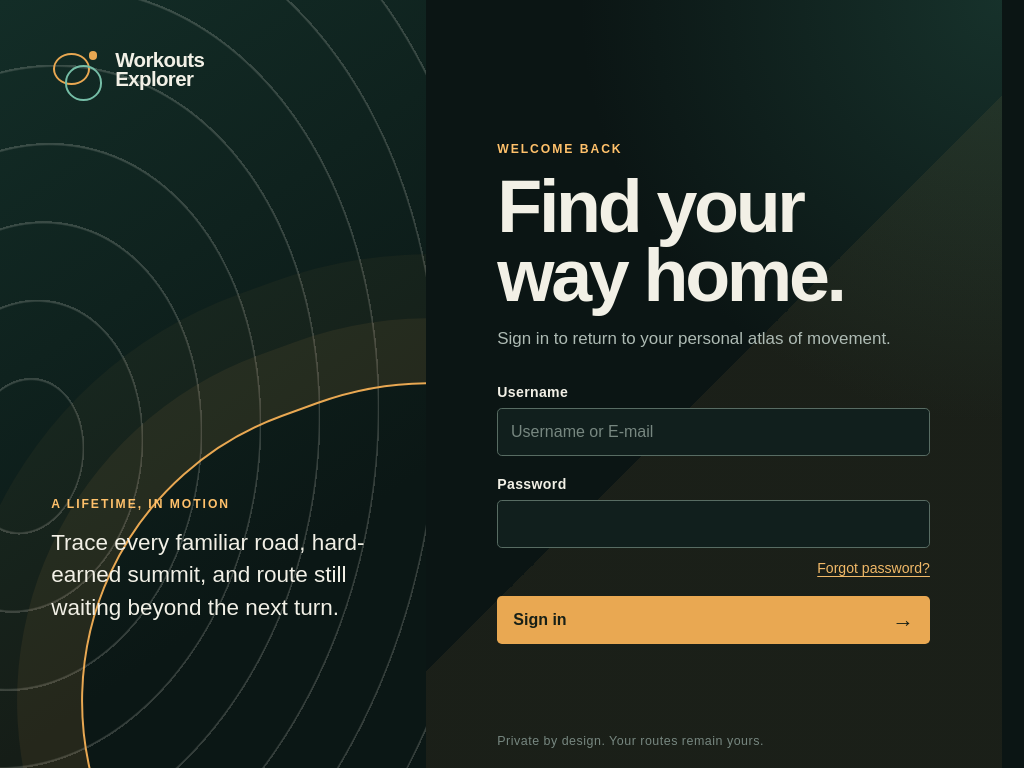
Test: public authentication › returns to the selected Map workout after reauthentication
Type "trailrunner" into the field labelled "Username".
click(714, 432); type("trailrunner")  # box [497, 408, 930, 456]
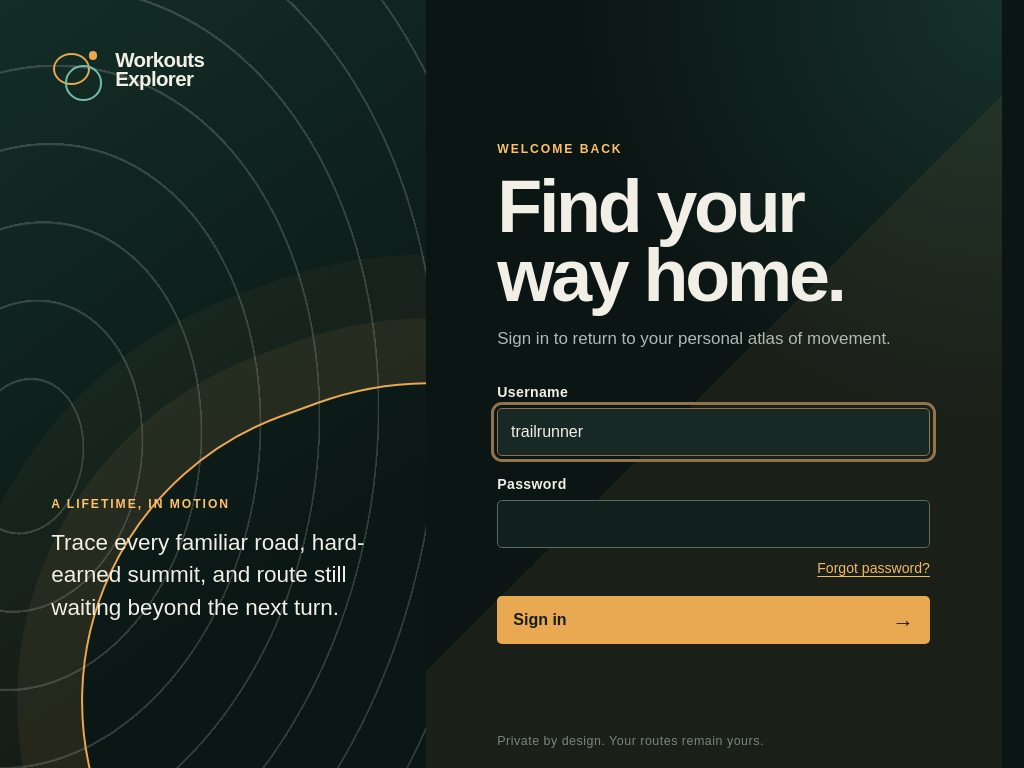
Type "correct horse battery" into the password field labelled "Password".
click(714, 524); type("correct horse battery")  # box [497, 500, 930, 548]
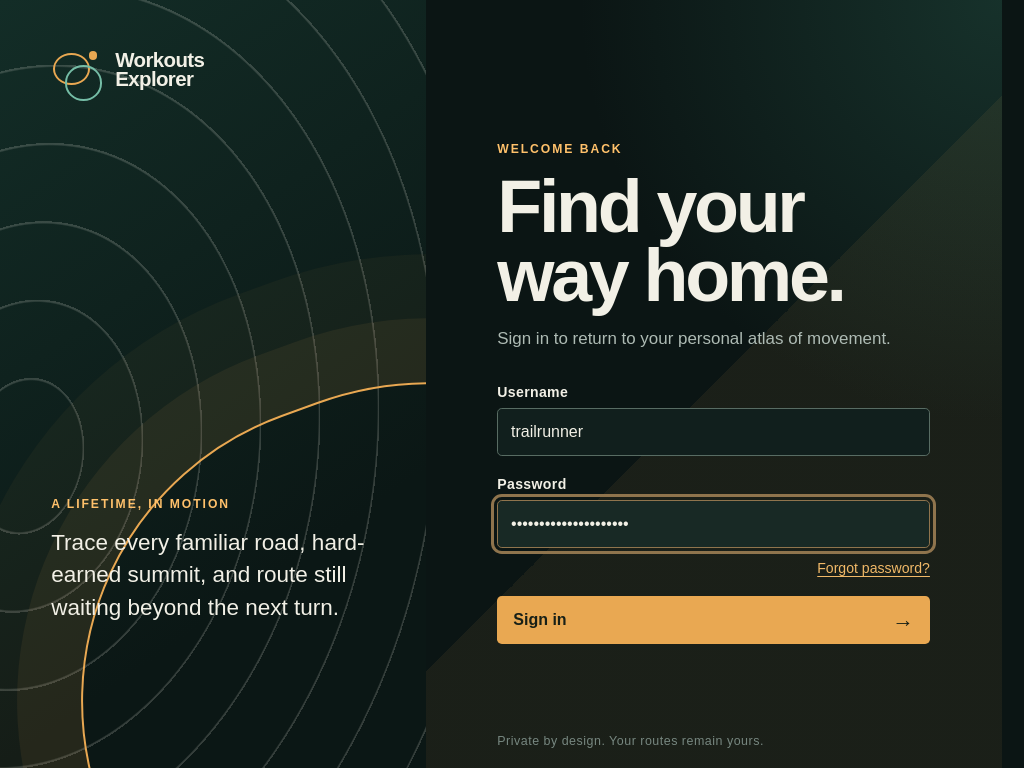
Click the button "Sign in".
click(540, 620)  # box [497, 596, 930, 644]
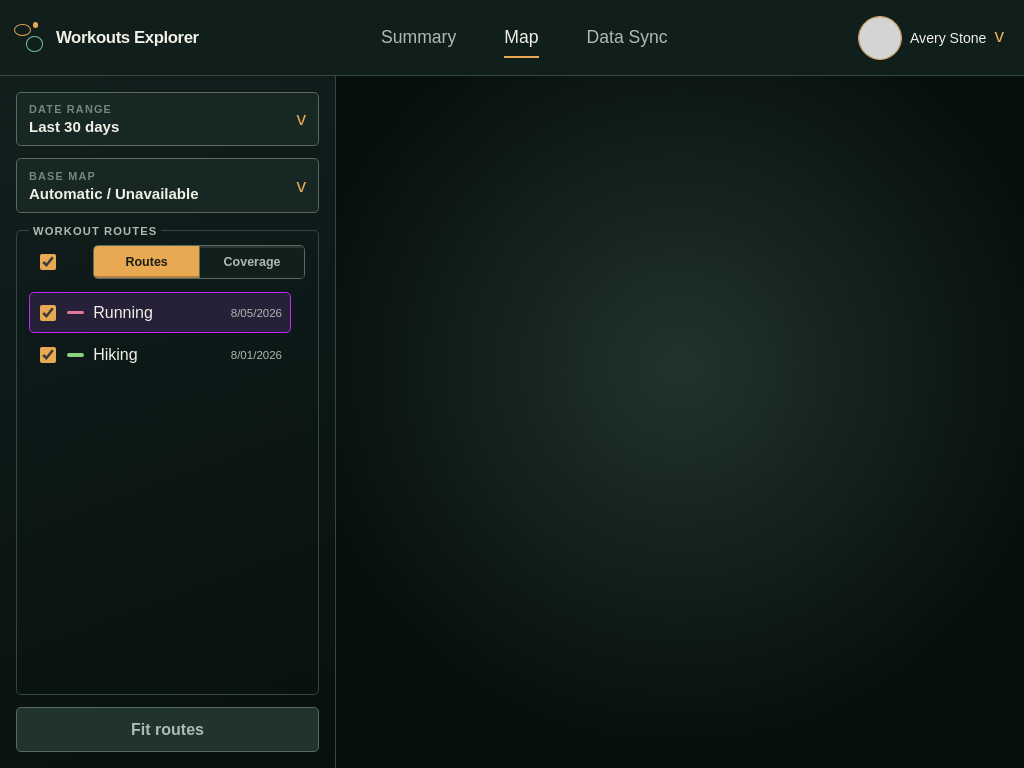
Expected: the checkbox named "Show Running" is checked, [40, 305, 56, 321]
Expected: the checkbox named "Show Hiking" is checked, [40, 347, 56, 363]
